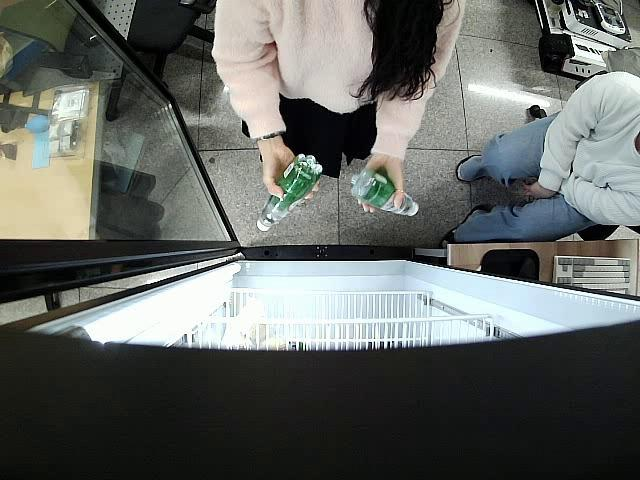18_trevi: (258, 151, 322, 232), (351, 168, 419, 219)
